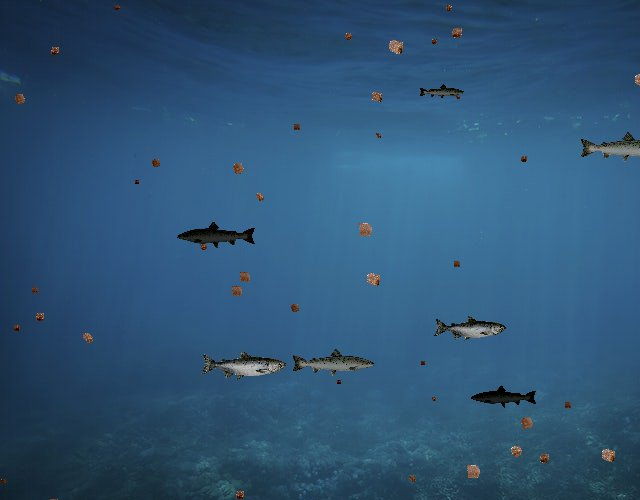Fish: (290, 347, 376, 378), (200, 350, 286, 381), (177, 221, 258, 250), (579, 130, 640, 164), (433, 315, 506, 342), (470, 384, 538, 409), (418, 84, 465, 101)
Pellet: (514, 410, 540, 436), (504, 439, 529, 464), (76, 327, 98, 349), (516, 152, 530, 166), (428, 36, 441, 49), (111, 2, 123, 14)
